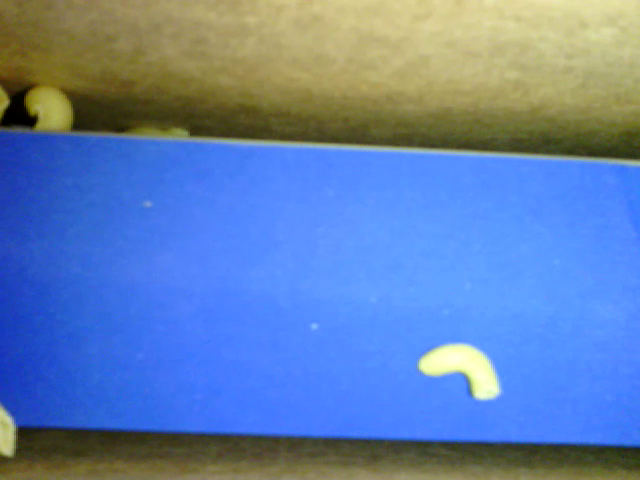elbow: (417, 344, 499, 400)
shell: (25, 85, 74, 136)
